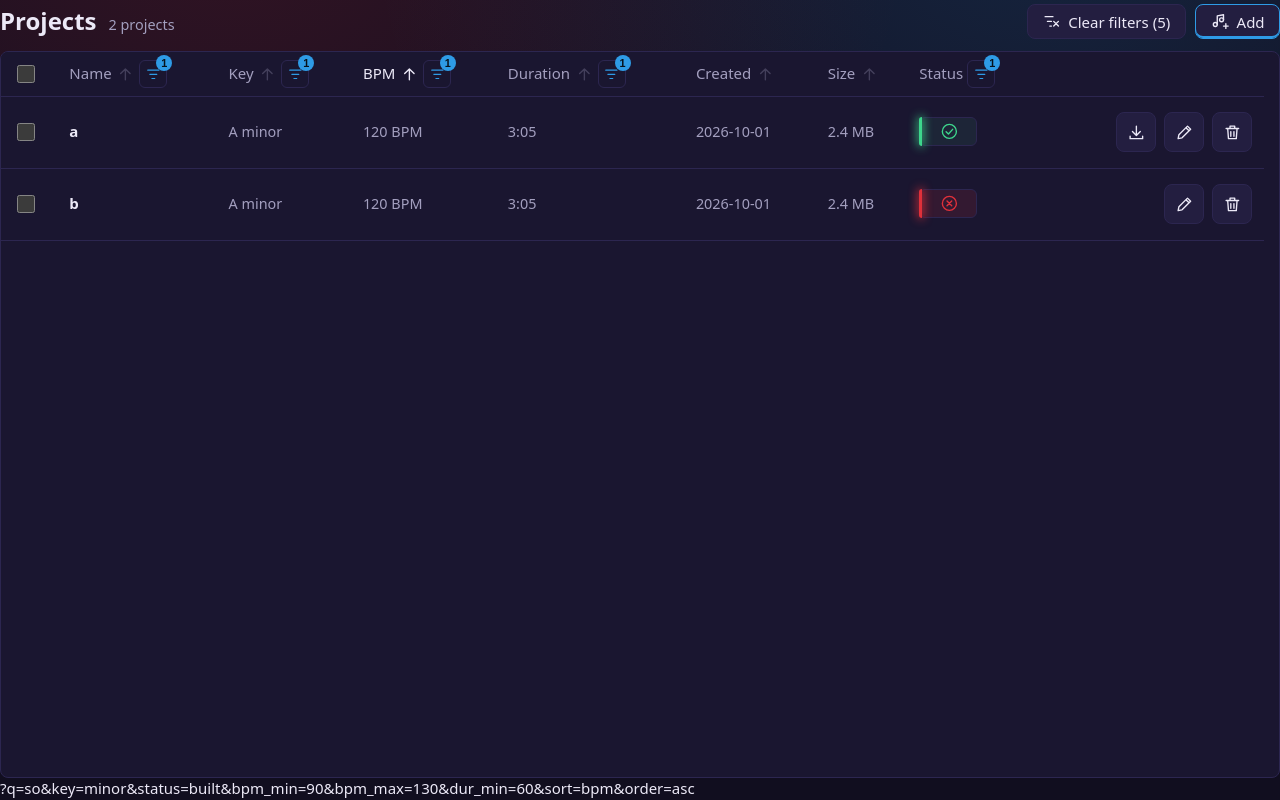
Projects table › reads filters from the URL into the request and the controls
Expected: the link "a" is shown, [69, 121, 78, 141]
Step 1. Click the button named "Filter Name, 1 active" → x=153, y=74, box [139, 60, 167, 88]
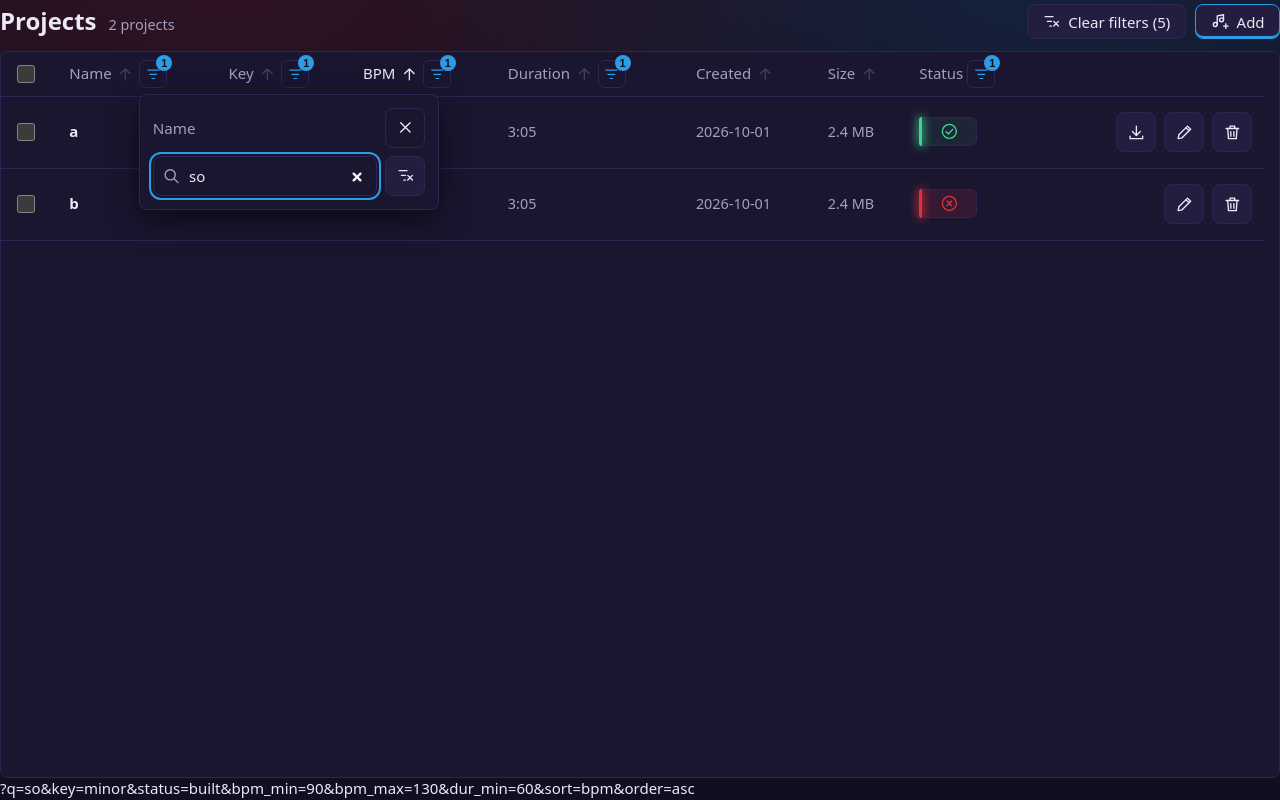
Now the search field named "Search by name" holds "so", box [153, 156, 377, 196]
